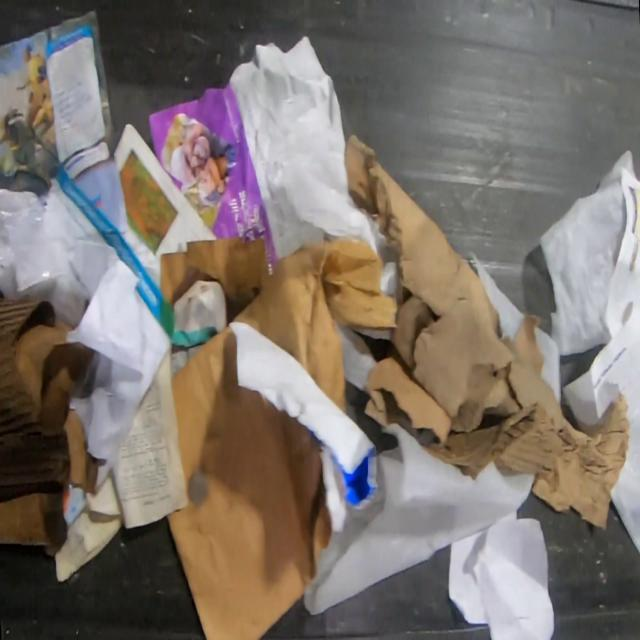cardboard: (345, 132, 561, 480), (164, 325, 334, 639), (233, 237, 396, 416), (0, 298, 99, 557), (530, 388, 632, 532), (160, 239, 270, 326)
soft_plastic: (0, 189, 67, 317)
